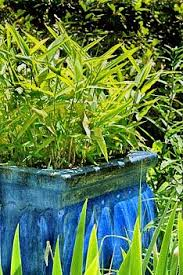bamboo: (1, 24, 165, 163)
